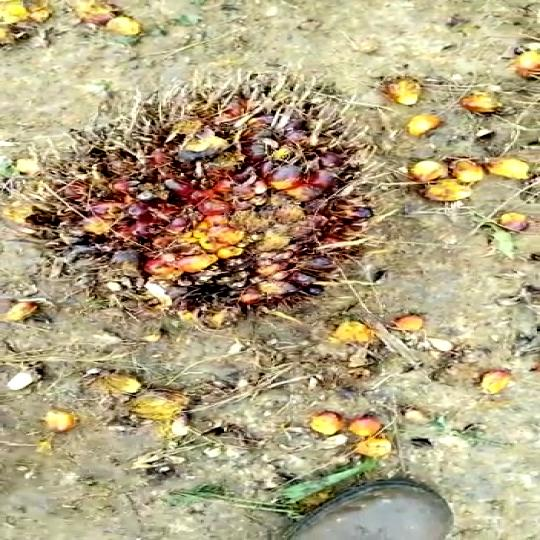terlalu masak: (0, 59, 469, 351)
